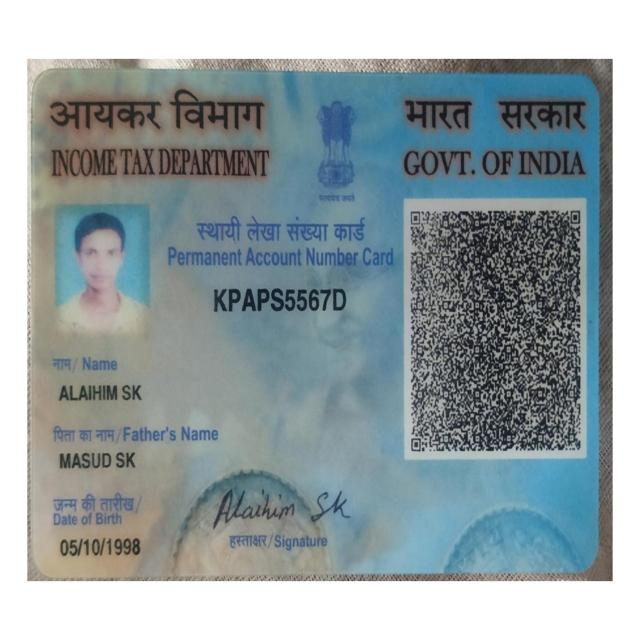pan_card: (37, 75, 595, 569)
